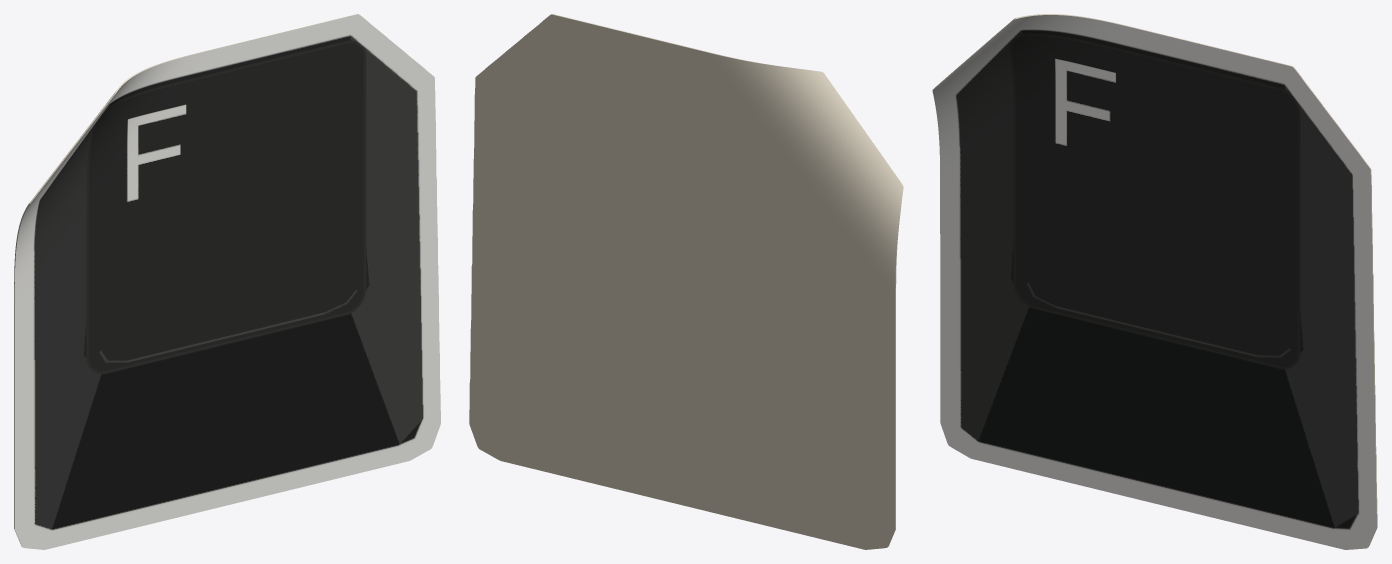
The model's file is old-22-f-key.glb.
3 views of the same model, side by side, from view 1: azimuth 30°, elevation 25°; view 2: azimuth 150°, elevation 25°; view 3: azimuth 330°, elevation 25° (orthographic). The views are drawn at different scales.
Visible parts, largest first — view 1: old-22-f-key / thin printed sticker; view 2: old-22-f-key / thin printed sticker; view 3: old-22-f-key / thin printed sticker.
Boxes of the visible parts, <box> form: old-22-f-key / thin printed sticker: <box>14,14,440,549</box>; old-22-f-key / thin printed sticker: <box>469,14,903,549</box>; old-22-f-key / thin printed sticker: <box>932,14,1377,549</box>.
Size of the model in its own units: 2.25 by 2.32 by 0.1346.
Materials: 2 (1 with a texture image).
